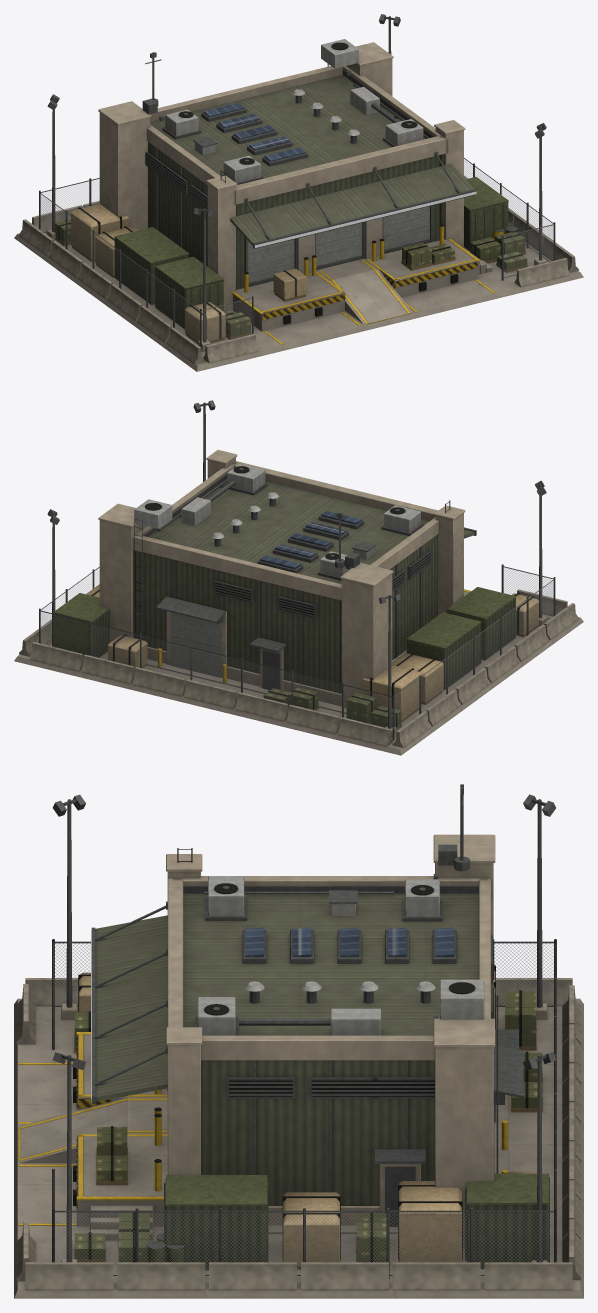
The model's file is supply_depot.glb.
The picture shows the model from 3 angles, top to bottom: view 1: azimuth 30°, elevation 25°; view 2: azimuth 150°, elevation 25°; view 3: azimuth 270°, elevation 25°; orthographic projection. The views are drawn at different scales.
Parts seen in each view (by area): view 1: Building, Props; view 2: Building, Props; view 3: Building, Props.
Part boxes in pixels (x1,y1,x2,y2): Building: (14,39,583,371); Props: (19,14,578,364); Building: (14,450,583,755); Props: (19,400,578,747); Building: (14,784,583,1298); Props: (16,794,581,1290).
Size of the model in its own units: 22 by 10.3 by 18.
3 materials, 2 textured.
